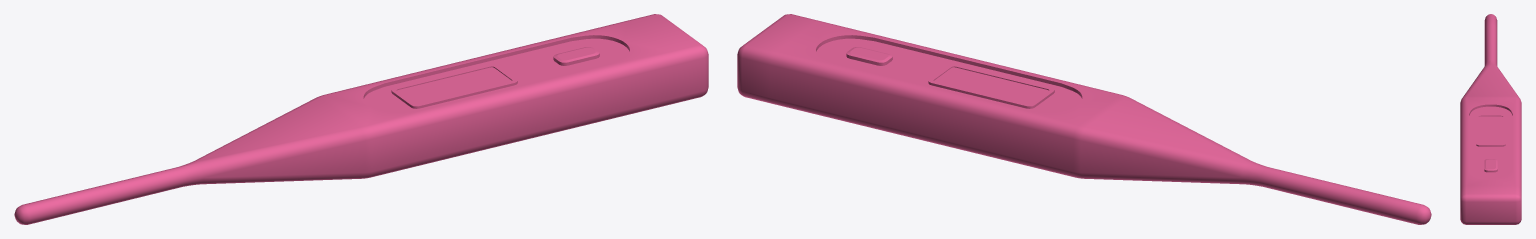
Rendered from thermometer.fbx.
3 renders of one model, left to right at view 1: azimuth 30°, elevation 25°; view 2: azimuth 150°, elevation 25°; view 3: azimuth 270°, elevation 25°, orthographic. The views are drawn at different scales.
Parts seen in each view (by area): view 1: thermometer.001, screen.001, button.001; view 2: thermometer.001, screen.001, button.001; view 3: thermometer.001, screen.001, button.001.
Boxes of the visible parts, left/top/right/bottom form: thermometer.001: left=14, top=14, right=708, bottom=224; screen.001: left=391, top=64, right=517, bottom=108; button.001: left=553, top=47, right=599, bottom=65; thermometer.001: left=737, top=14, right=1431, bottom=224; screen.001: left=928, top=64, right=1054, bottom=108; button.001: left=846, top=47, right=892, bottom=65; thermometer.001: left=1460, top=14, right=1521, bottom=224; screen.001: left=1476, top=114, right=1505, bottom=146; button.001: left=1484, top=159, right=1497, bottom=172.
Size of the model in its own units: 0.1604 by 0.0119 by 0.0215.
